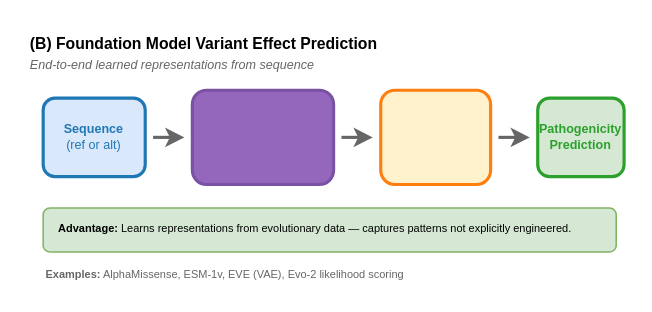
Image size: 652x312. Some labels were removed from this diagram. The centre of each missing label's shape, as x and y in pixels:
"Foundation Model ESM-2 / Evo-2 / AlphaMissense" goes at (x=262, y=136).
"Δ Likelihood or learned effect score" goes at (x=434, y=136).
